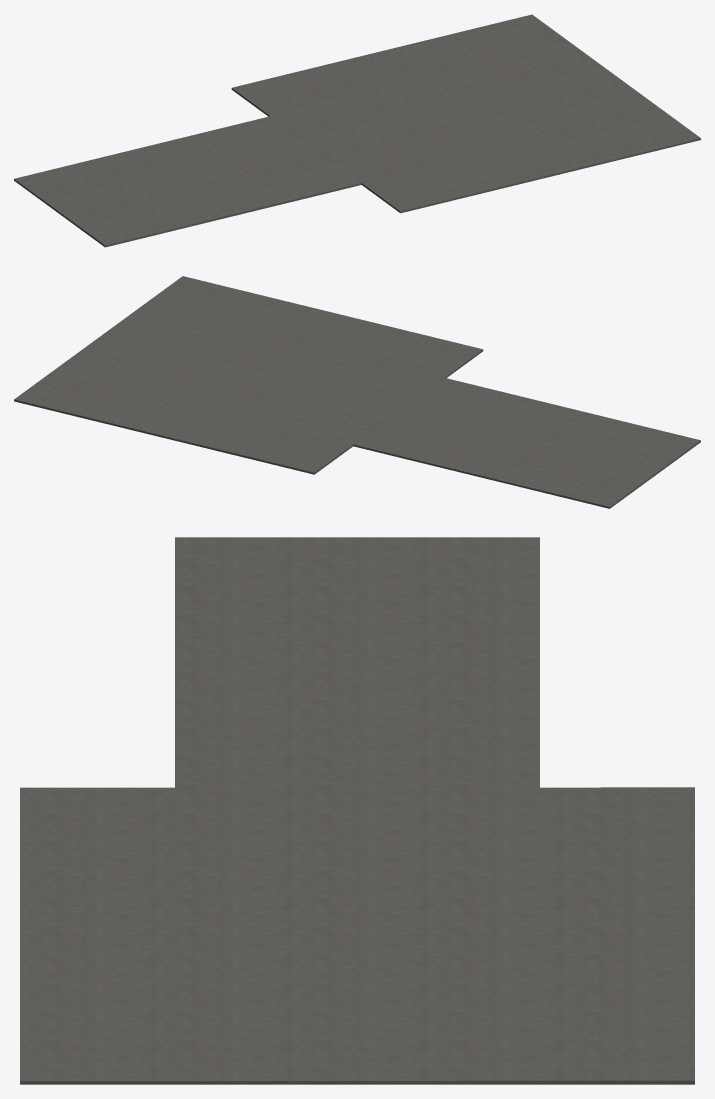
File: Doorway 1 (1) 1.fbx
The picture shows the model from 3 angles, top to bottom: view 1: azimuth 30°, elevation 25°; view 2: azimuth 150°, elevation 25°; view 3: azimuth 270°, elevation 25°; orthographic projection. The views are drawn at different scales.
Parts seen in each view (by area): view 1: Floor_1; view 2: Floor_1; view 3: Floor_1.
Part boxes in pixels (x1,y1,x2,y2): Floor_1: (14,14,700,247); Floor_1: (14,276,700,508); Floor_1: (20,537,694,1084).
Bounding box in the file's own units: 27.24 × 0.0946 × 14.3.
